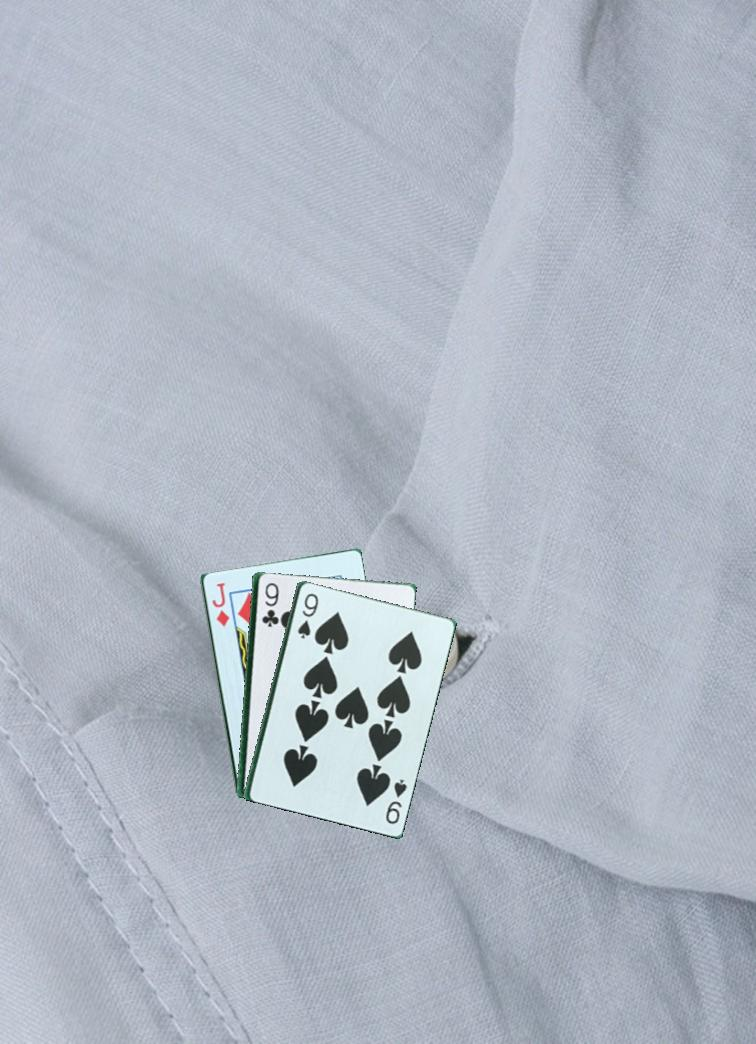9c: (258, 579, 278, 630)
9s: (382, 775, 410, 827), (294, 589, 320, 641)
jd: (208, 579, 232, 629)
